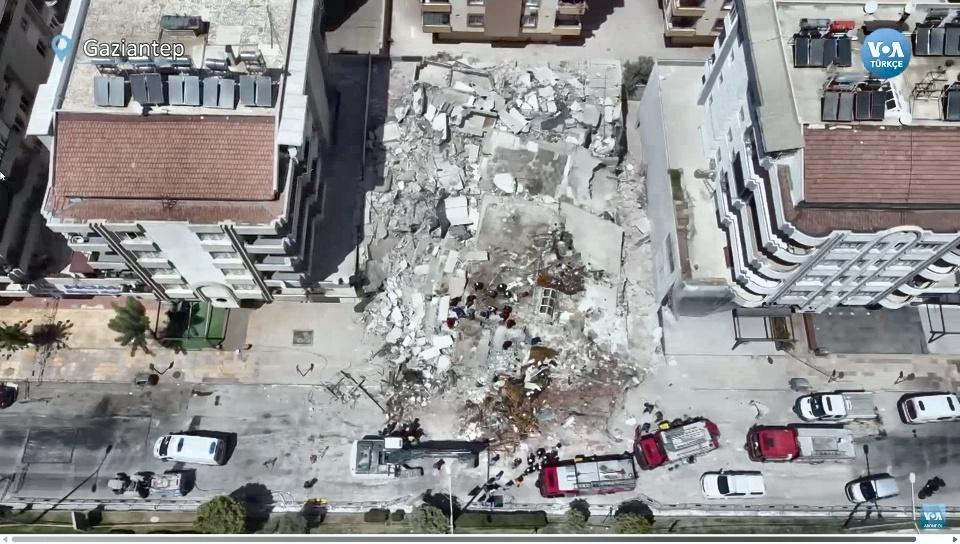kapali: (365, 387, 718, 515)
